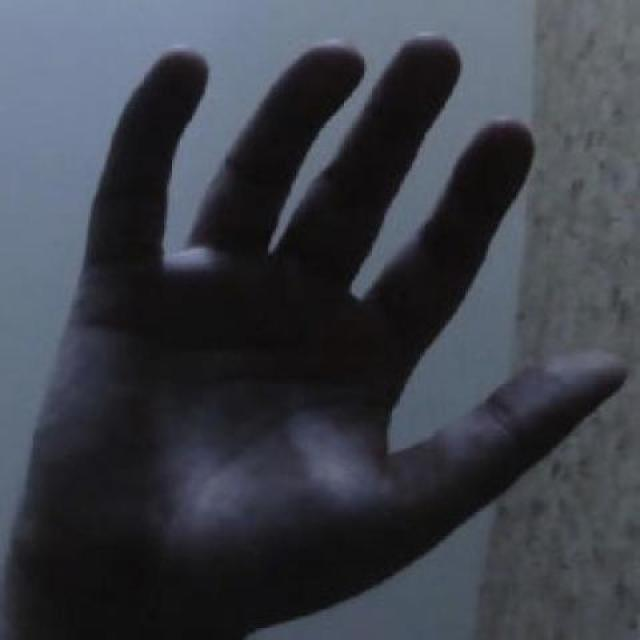Open Hand: (17, 32, 628, 640)
